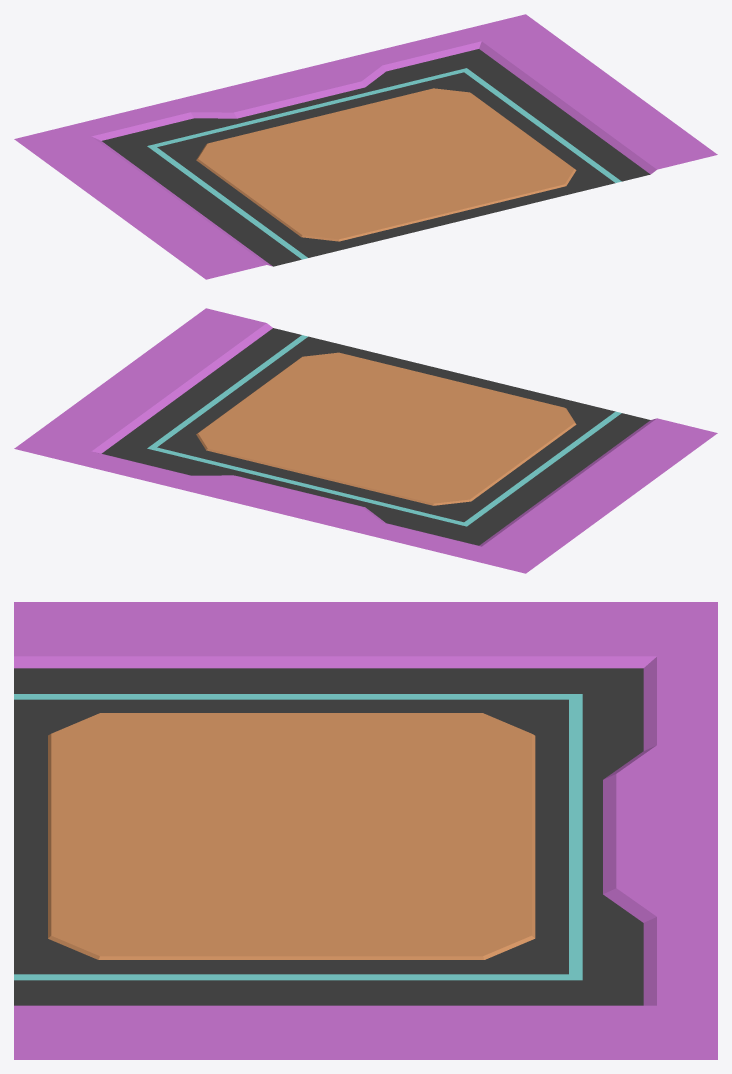
Rendered from HallFloorEnd.fbx.
3 renders of one model, top to bottom at view 1: azimuth 30°, elevation 25°; view 2: azimuth 150°, elevation 25°; view 3: azimuth 270°, elevation 25°, orthographic. The views are drawn at different scales.
Parts seen in each view (by area): view 1: HallFloorEnd; view 2: HallFloorEnd; view 3: HallFloorEnd.
Boxes of the visible parts, x1=… form: HallFloorEnd: x1=14, y1=14, x2=717, y2=279; HallFloorEnd: x1=14, y1=308, x2=717, y2=573; HallFloorEnd: x1=14, y1=602, x2=717, y2=1059.
Bounding box in the file's own units: 8 × 0.05 × 5.2.
